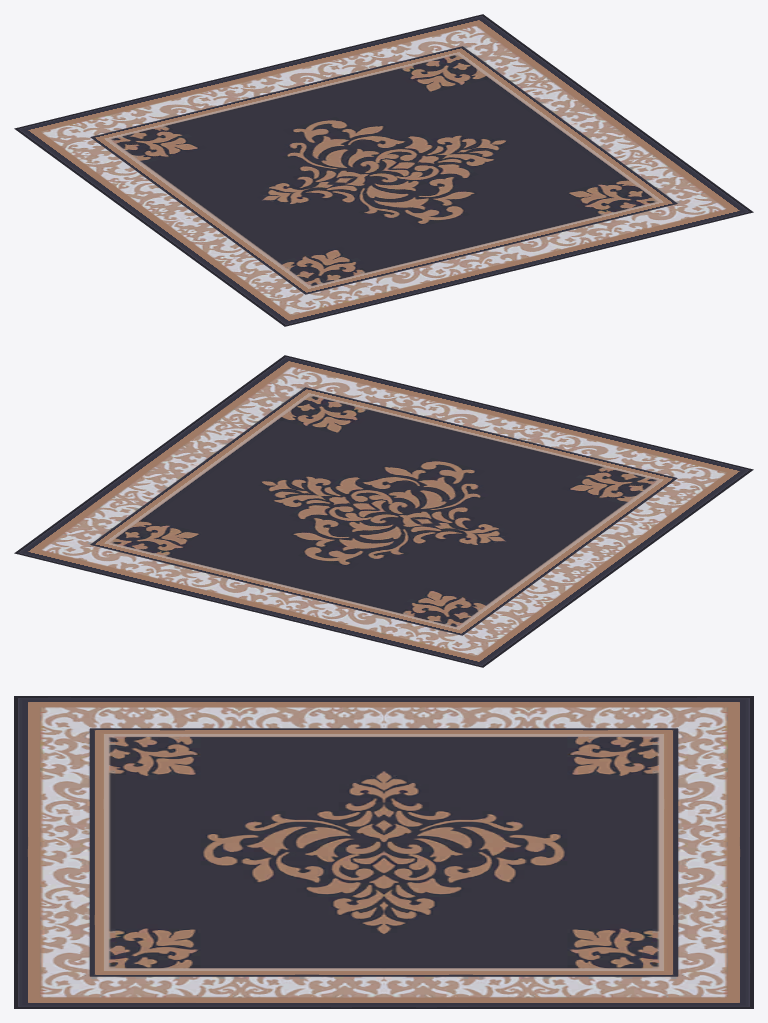
The model's file is my_gehennaparty_01_carpet_03.glb.
3 views of the same model, one above another, from view 1: azimuth 30°, elevation 25°; view 2: azimuth 150°, elevation 25°; view 3: azimuth 270°, elevation 25° (orthographic). The views are drawn at different scales.
Visible parts, largest first — view 1: my_gehennaparty_01_carpet_03; view 2: my_gehennaparty_01_carpet_03; view 3: my_gehennaparty_01_carpet_03.
Part boxes in pixels (x1,y1,x2,y2): my_gehennaparty_01_carpet_03: (14,14,753,326); my_gehennaparty_01_carpet_03: (14,355,753,667); my_gehennaparty_01_carpet_03: (14,696,753,1008).
Size of the model in its own units: 0.0294 by 0 by 0.0294.
1 material, 1 textured.
